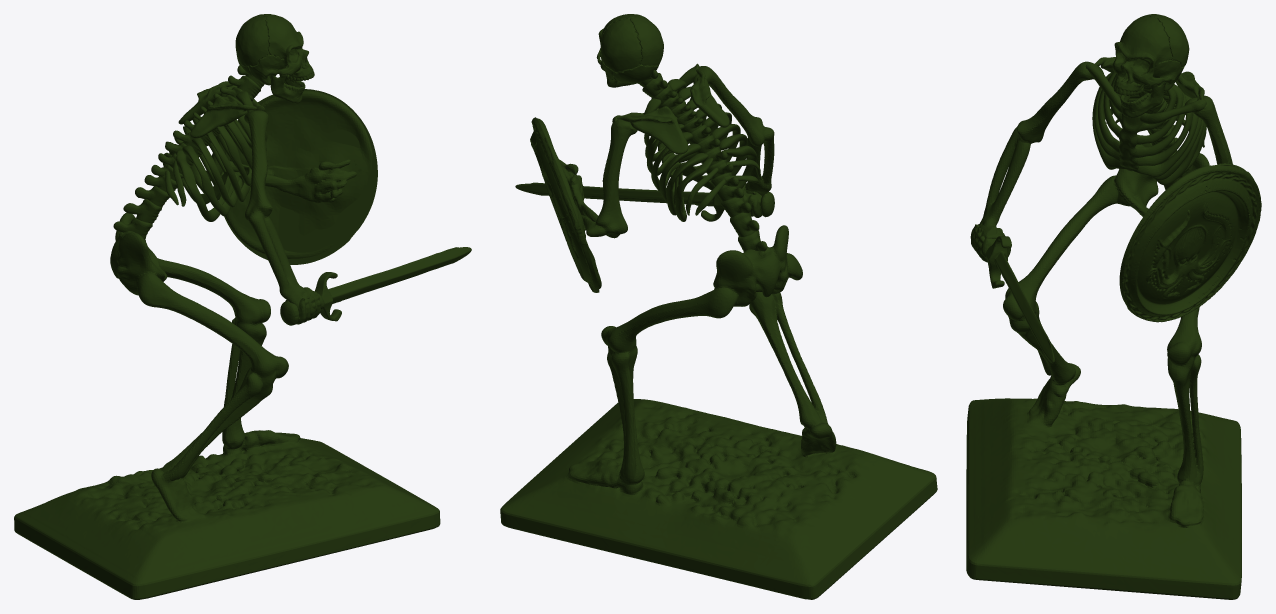
File: Violin-v1.glb
3 renders of one model, left to right at view 1: azimuth 30°, elevation 25°; view 2: azimuth 150°, elevation 25°; view 3: azimuth 270°, elevation 25°, orthographic. The views are drawn at different scales.
Visible parts, largest first — view 1: V2; view 2: V2; view 3: V2.
Boxes of the visible parts, x1=… form: V2: x1=14, y1=14, x2=471, y2=599; V2: x1=500, y1=14, x2=937, y2=599; V2: x1=966, y1=14, x2=1261, y2=599.
Bounding box in the file's own units: 0.0863 × 0.1072 × 0.0537.
